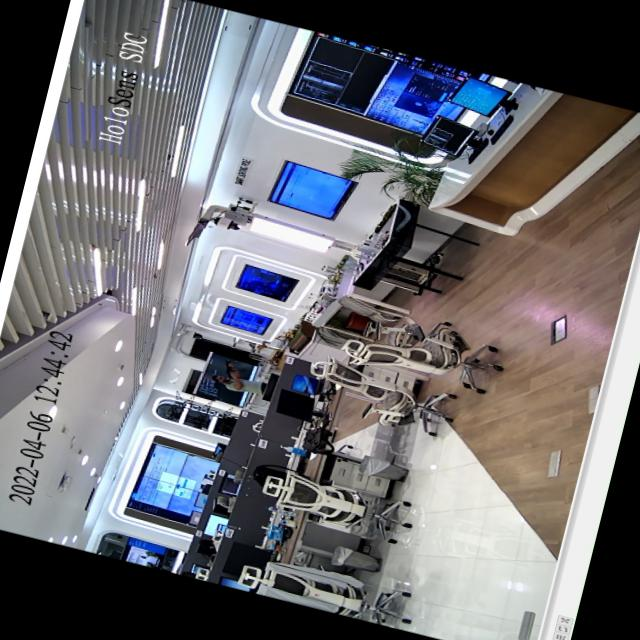long weapon: (210, 350, 259, 388)
